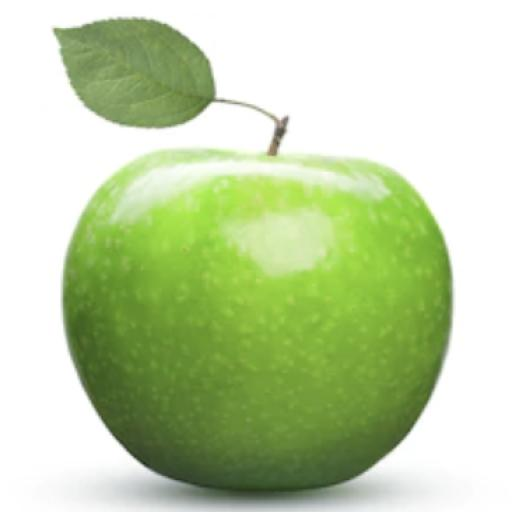apple: (63, 150, 451, 490)
